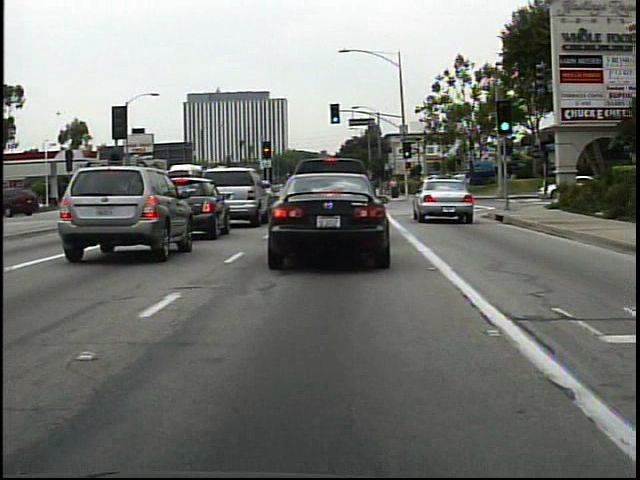person: (389, 176, 401, 202)
